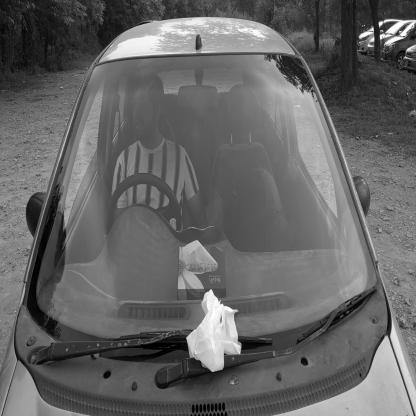no-seatbelt: (121, 73, 173, 200)
